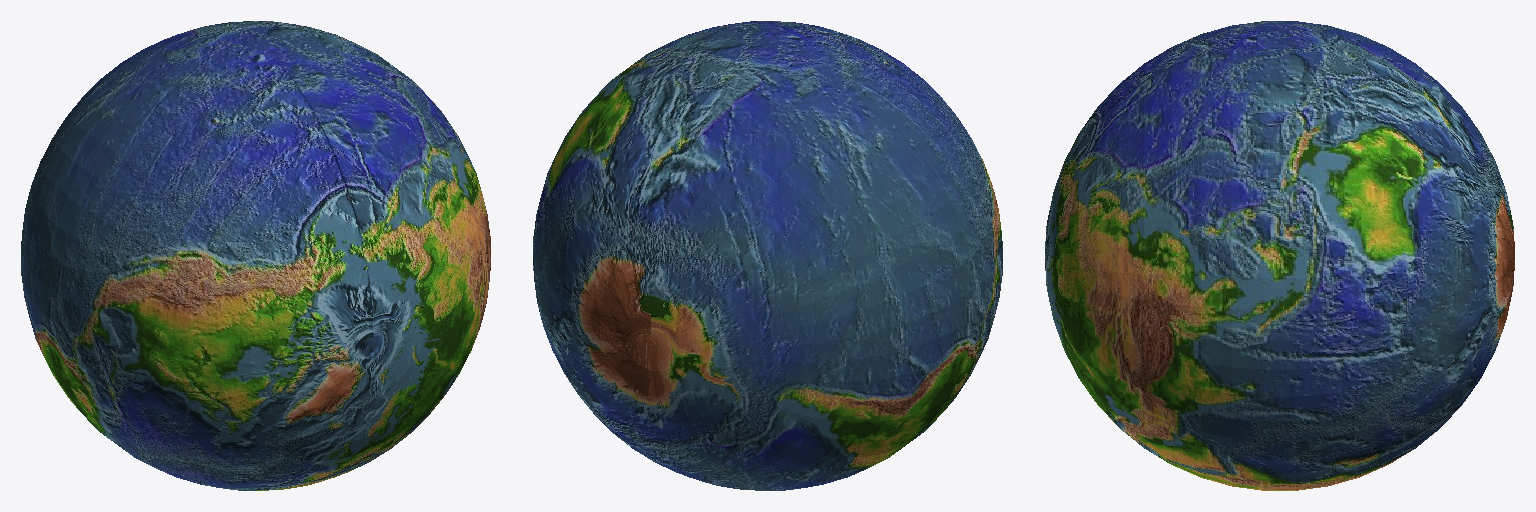
3 views of the same model, side by side, from view 1: azimuth 30°, elevation 25°; view 2: azimuth 150°, elevation 25°; view 3: azimuth 270°, elevation 25° (orthographic).
Visible parts, largest first — view 1: Sphere01; view 2: Sphere01; view 3: Sphere01.
Part boxes in pixels (x1,y1,x2,y2): Sphere01: (21,21,490,490); Sphere01: (533,21,1002,490); Sphere01: (1045,21,1514,490).
Size of the model in its own units: 157 by 157 by 157.
1 materials, 1 textured.